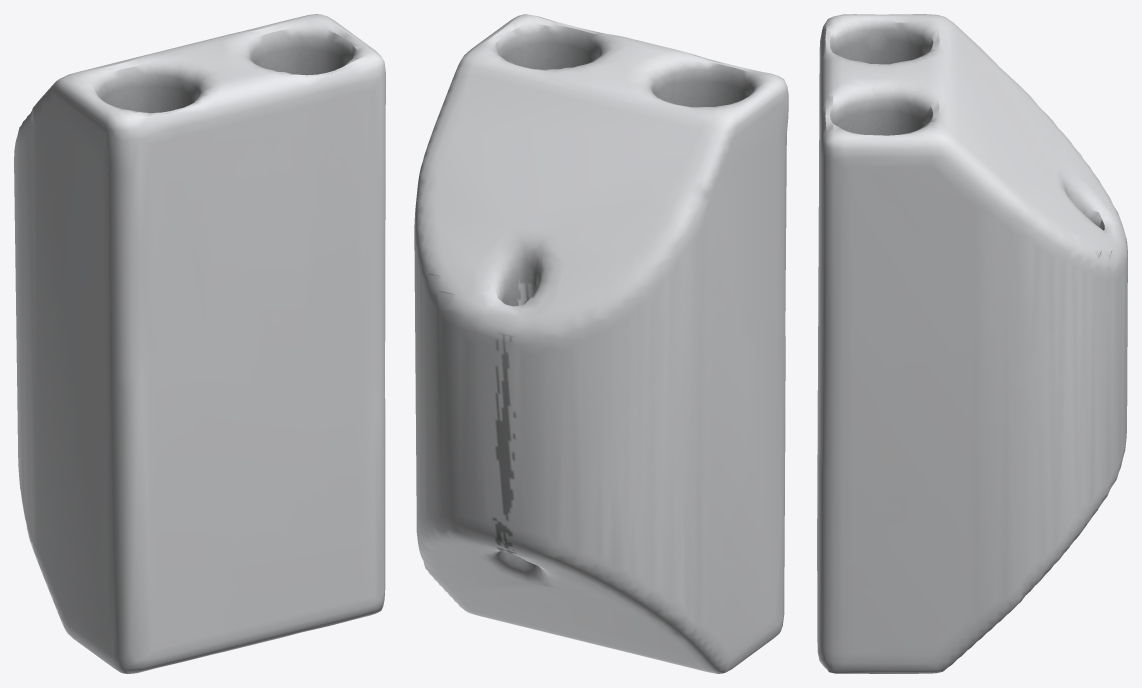
The model's file is left_finger3_middle.glb.
The picture shows the model from 3 angles, left to right: view 1: azimuth 30°, elevation 25°; view 2: azimuth 150°, elevation 25°; view 3: azimuth 270°, elevation 25°; orthographic projection. The views are drawn at different scales.
Visible parts, largest first — view 1: left_finger3_middle; view 2: left_finger3_middle; view 3: left_finger3_middle.
Boxes of the visible parts, x1,y1,x2,y2 form: left_finger3_middle: (14,14,385,673); left_finger3_middle: (414,14,788,673); left_finger3_middle: (817,14,1127,673).
Size of the model in its own units: 0.0112 by 0.0218 by 0.0113.
Materials: 1 (1 with a texture image).
